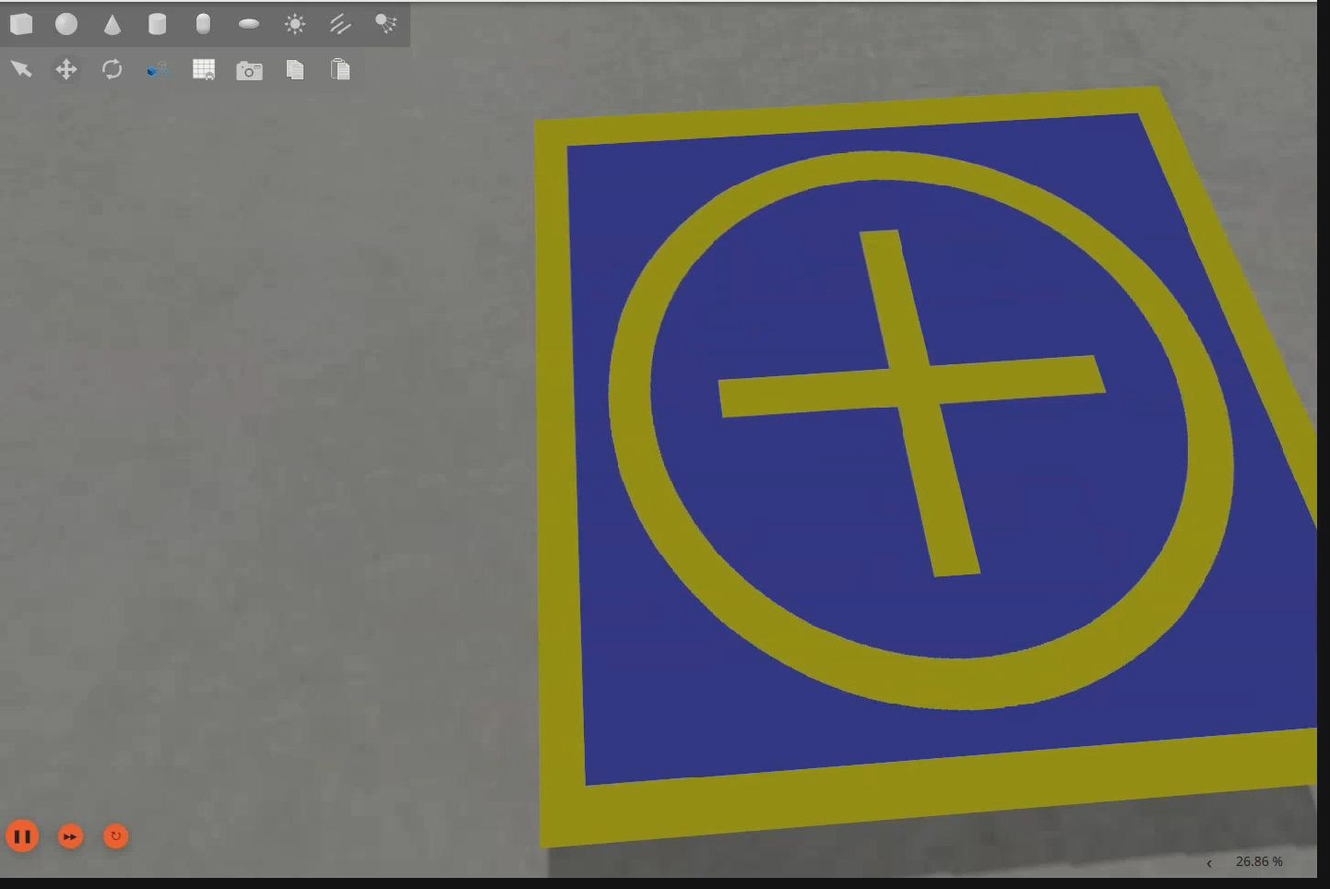small_base: (540, 88, 1316, 849)
